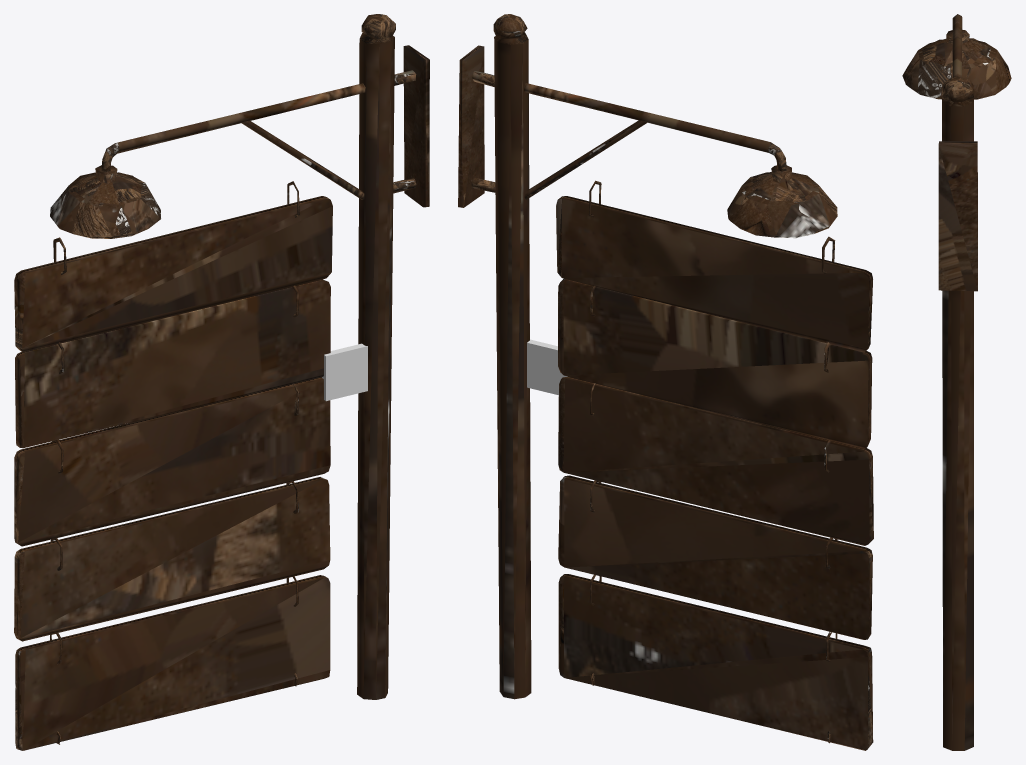
File: Stall_Board.fbx
The picture shows the model from 3 angles, left to right: view 1: azimuth 30°, elevation 25°; view 2: azimuth 150°, elevation 25°; view 3: azimuth 270°, elevation 25°; orthographic projection.
Parts seen in each view (by area): view 1: Mesh_0, Plane; view 2: Mesh_0, Plane; view 3: Mesh_0.
Part boxes in pixels (x1,y1,x2,y2): Mesh_0: (14,14,429,750); Plane: (322,343,367,401); Mesh_0: (458,14,873,750); Plane: (527,339,567,395); Mesh_0: (902,14,1011,750).
Size of the model in its own units: 62.71 by 100 by 14.83.
